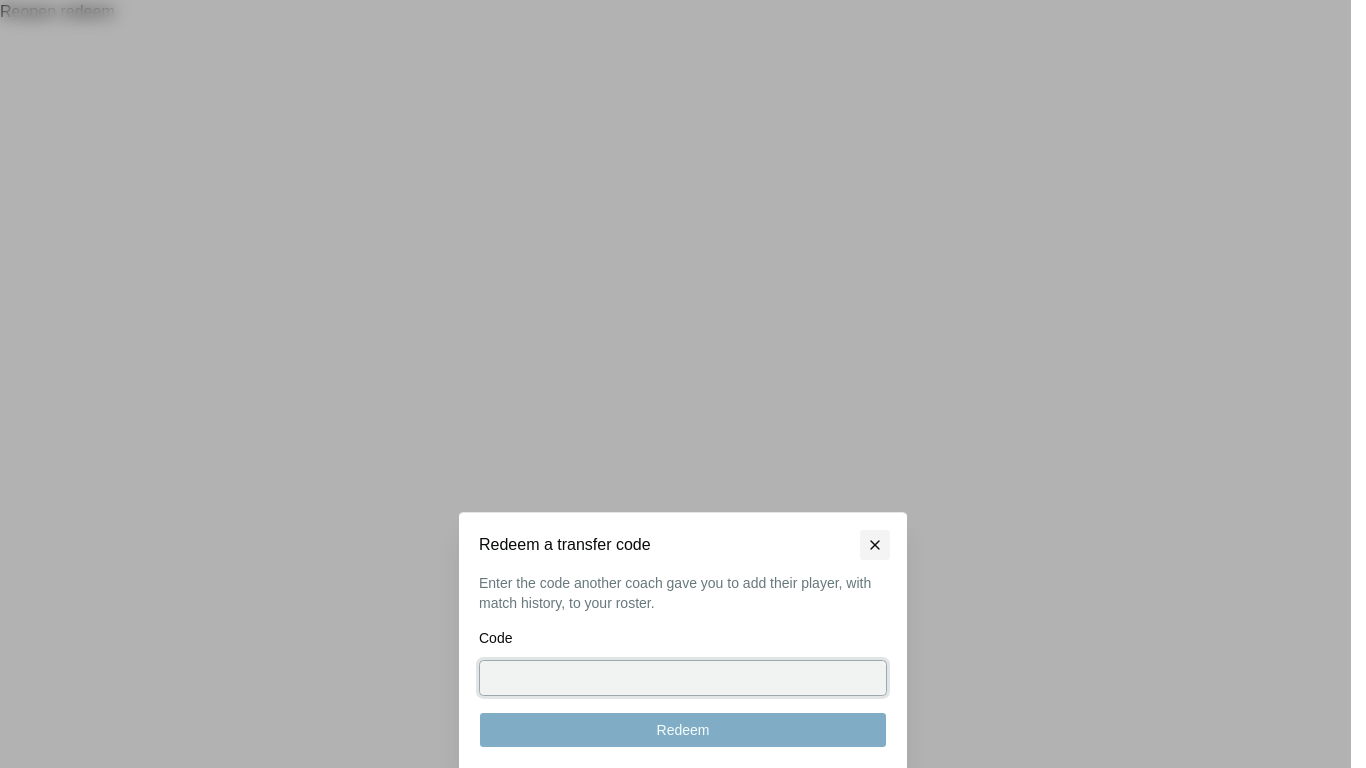
Test: Done dismisses the sheet from the success step, without visiting the player
Expected: the heading "Redeem a transfer code" is shown, left=479, top=536, right=651, bottom=553
Type "GOODCODE" into the field labelled "Code" at [683, 678], box left=479, top=660, right=887, bottom=696
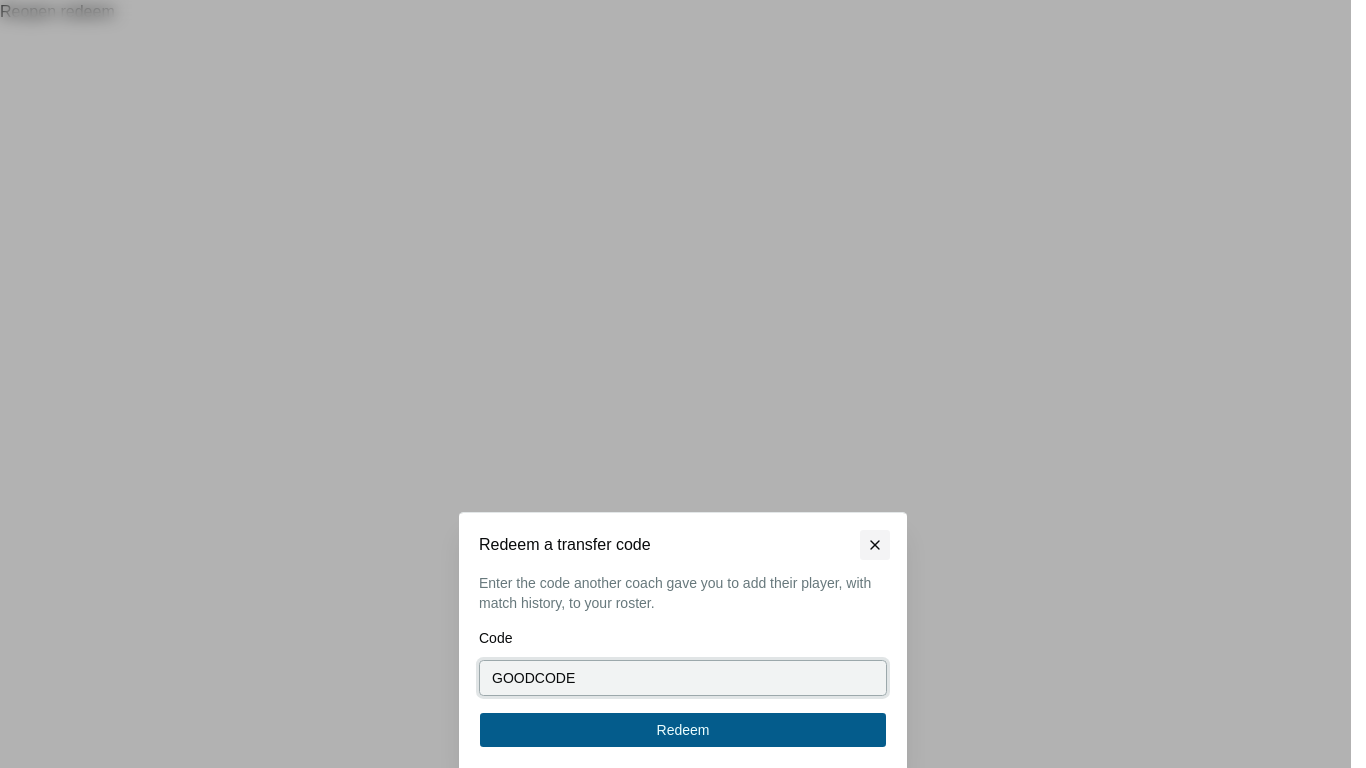
Click the button "Redeem" at [683, 730], box left=479, top=712, right=887, bottom=748
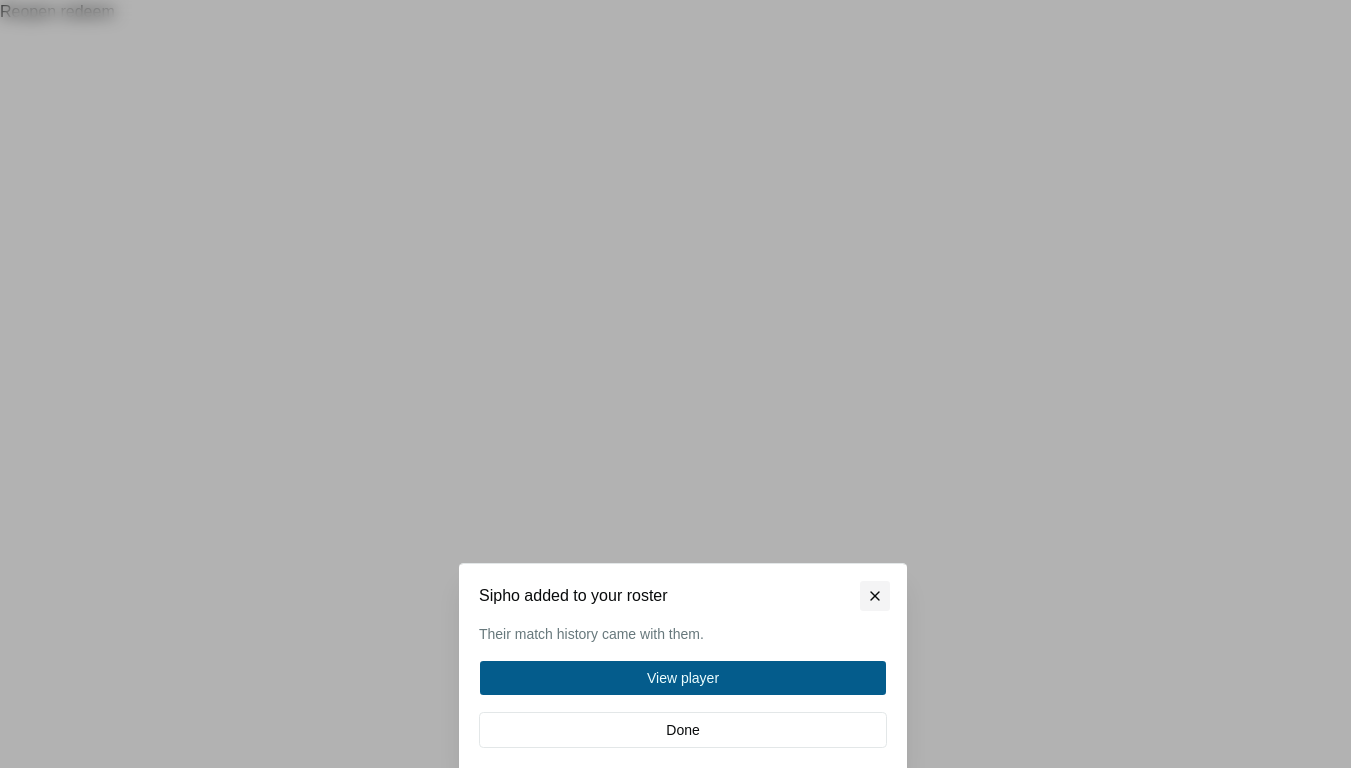
Click the button "Done" at [683, 730], box left=479, top=712, right=887, bottom=748
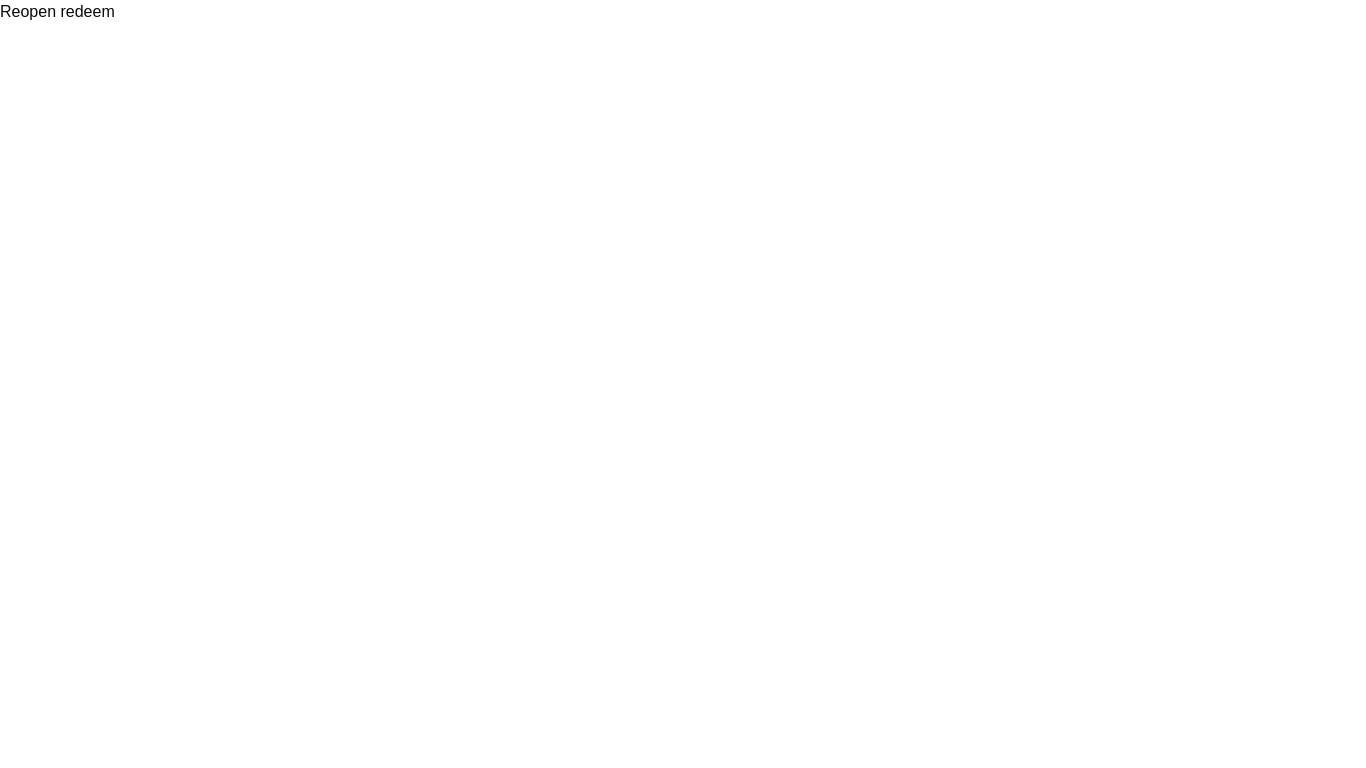
Expected: the button "Done" is gone
